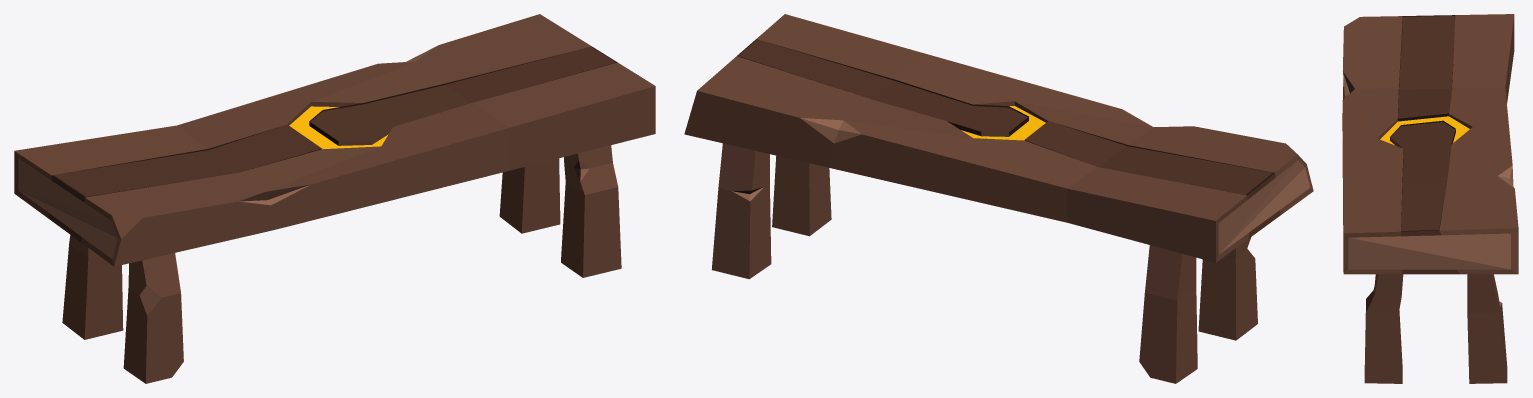
File: Bench_01.glb
3 views of the same model, side by side, from view 1: azimuth 30°, elevation 25°; view 2: azimuth 150°, elevation 25°; view 3: azimuth 270°, elevation 25° (orthographic). The views are drawn at different scales.
Parts seen in each view (by area): view 1: Bench_01; view 2: Bench_01; view 3: Bench_01.
Boxes of the visible parts, box(x1,y1,x2,y2) form: Bench_01: box(14, 14, 655, 383); Bench_01: box(684, 14, 1313, 383); Bench_01: box(1342, 14, 1518, 383).
Size of what is drawn, in the model's own units: 1.85 by 0.614 by 0.6143.
Materials: 2 (2 with a texture image).
